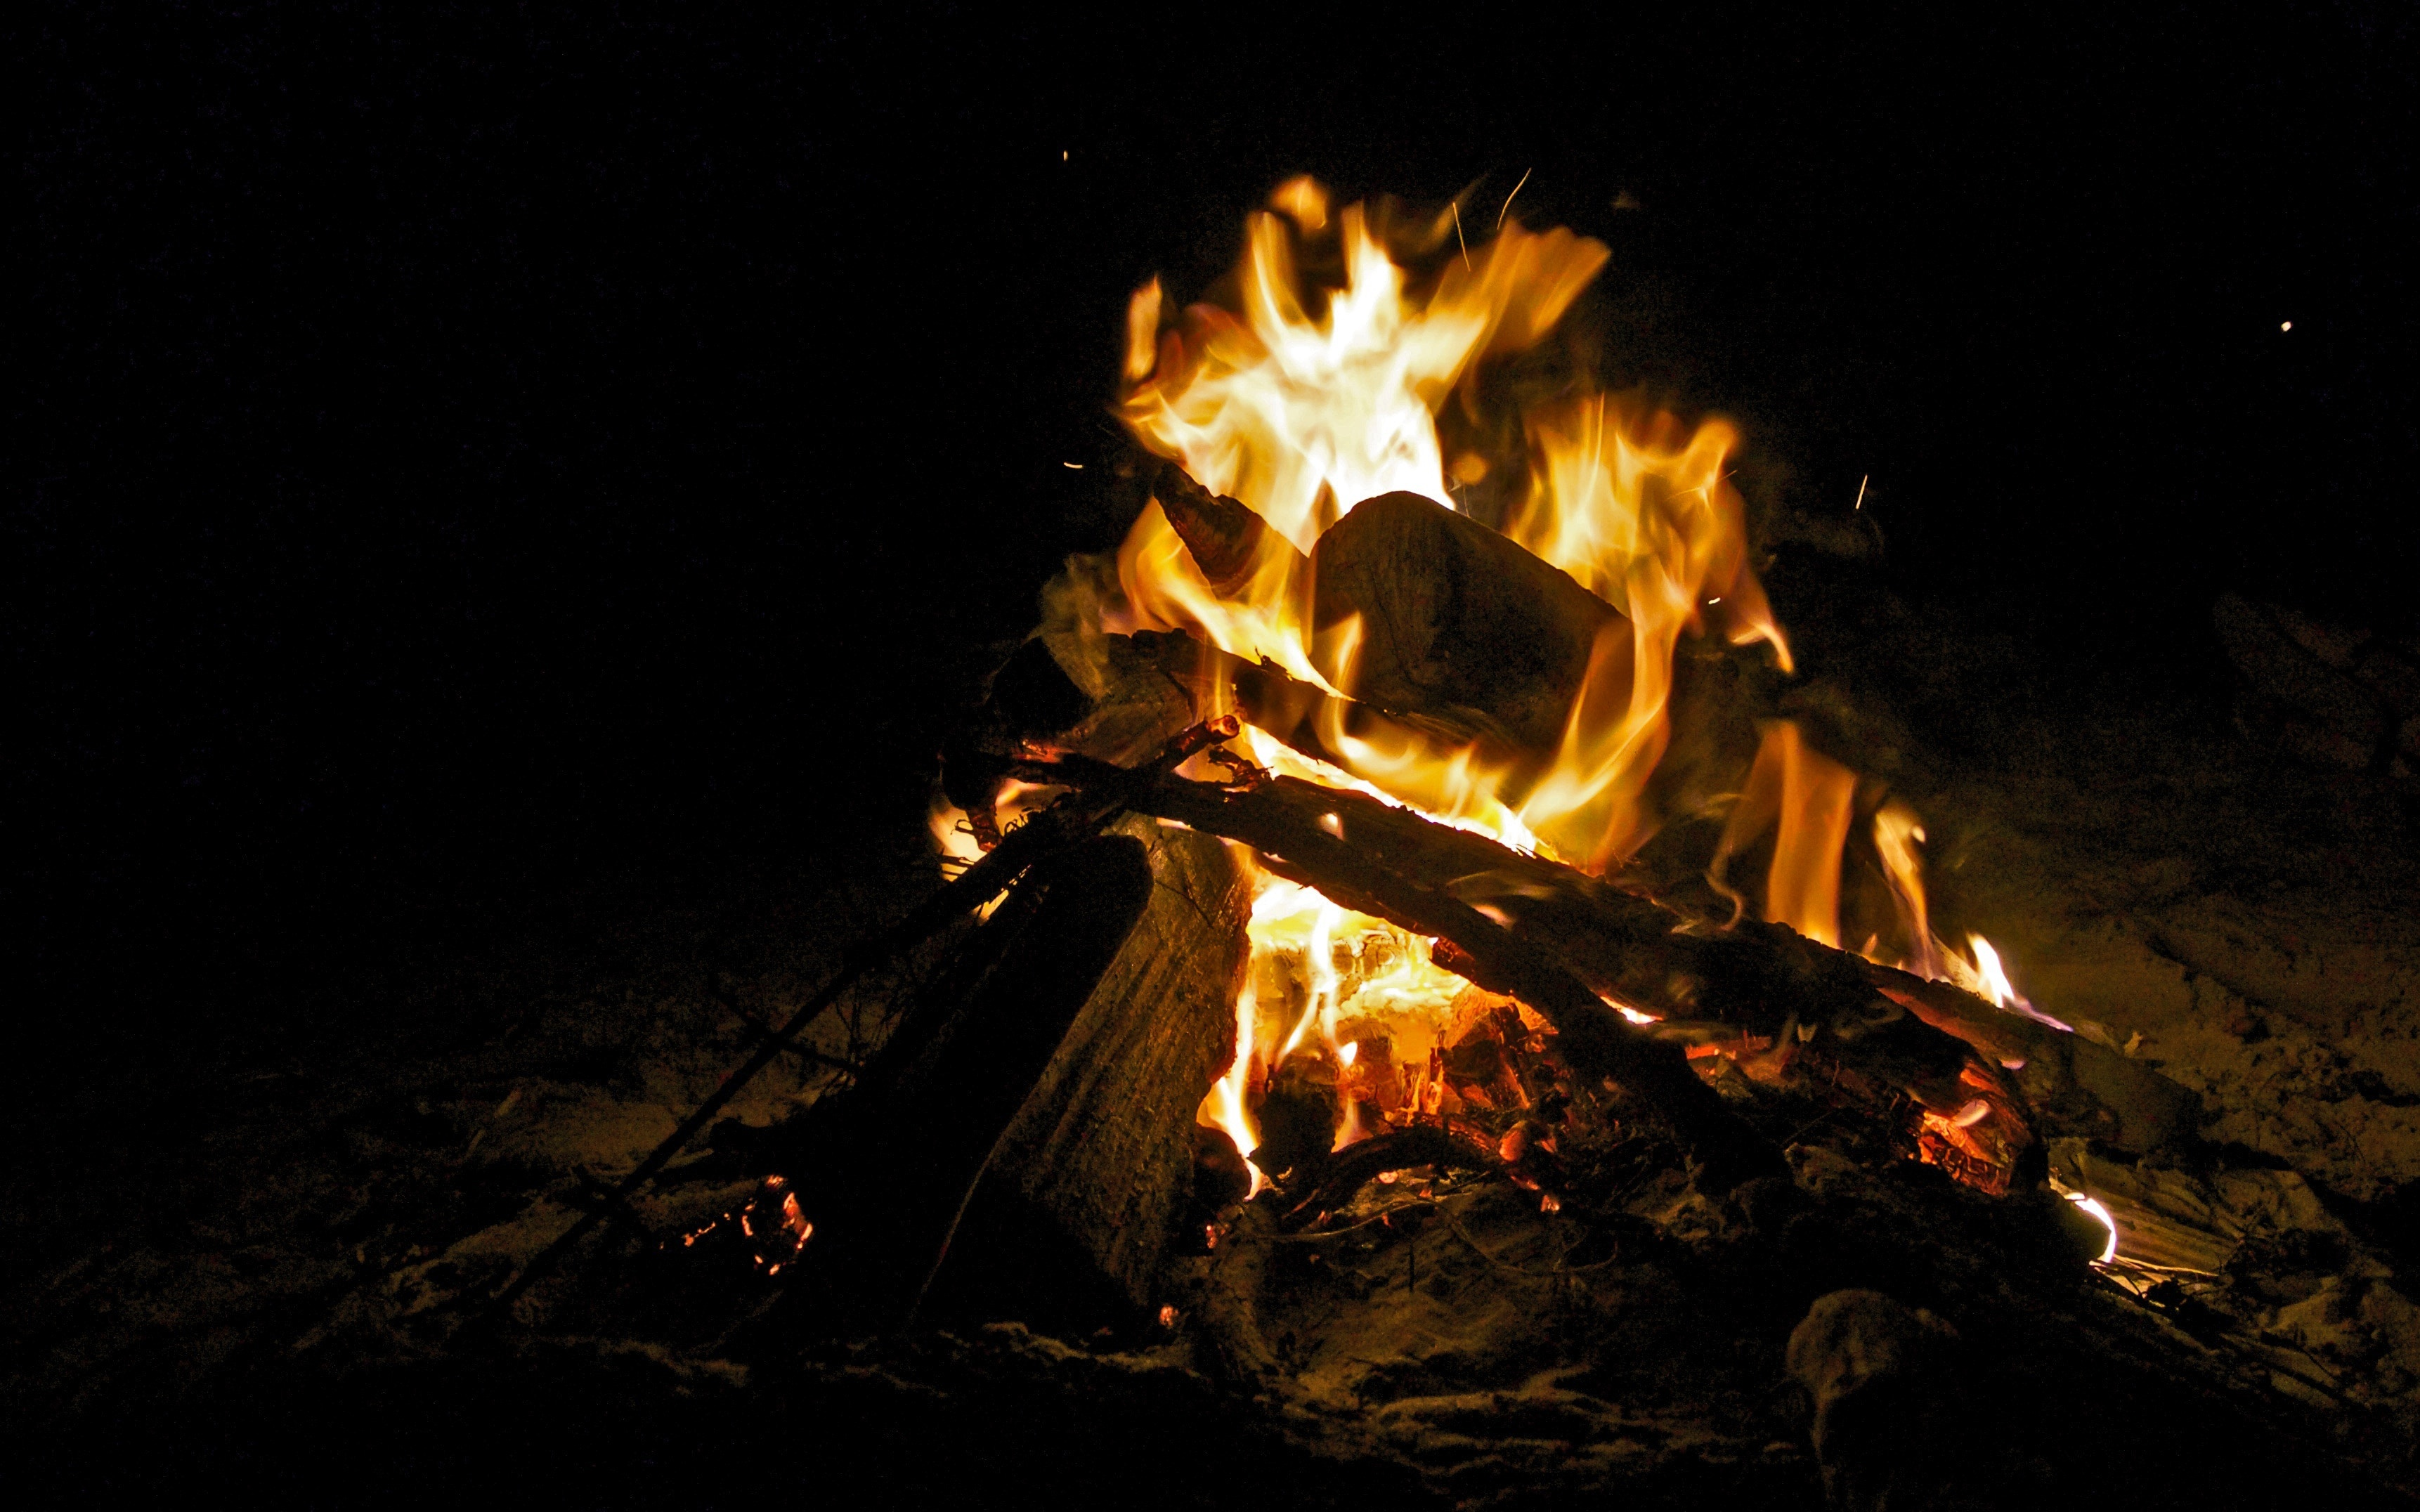fire: (941, 143, 2087, 1293)
